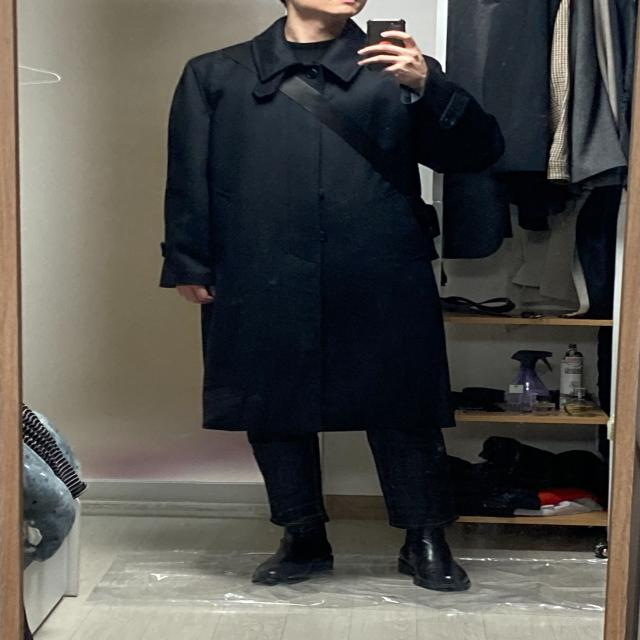coat: (158, 16, 507, 433)
denimpants: (254, 427, 456, 530)
